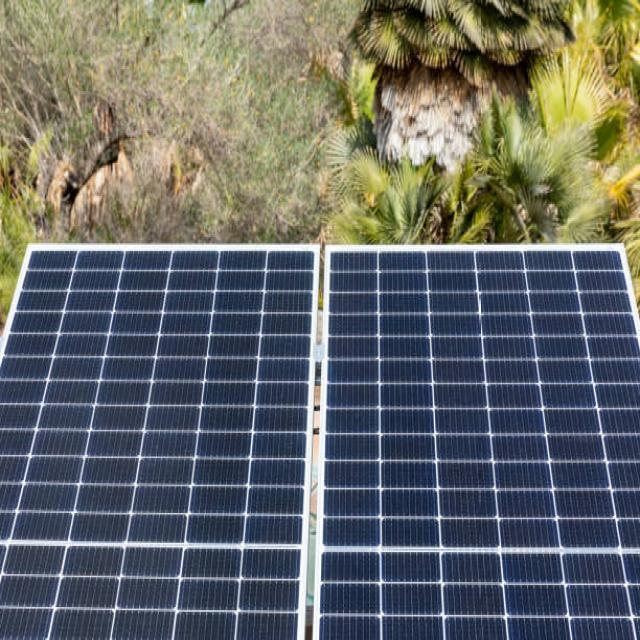Normal Solar Panel: (0, 235, 319, 640), (318, 247, 640, 640)
